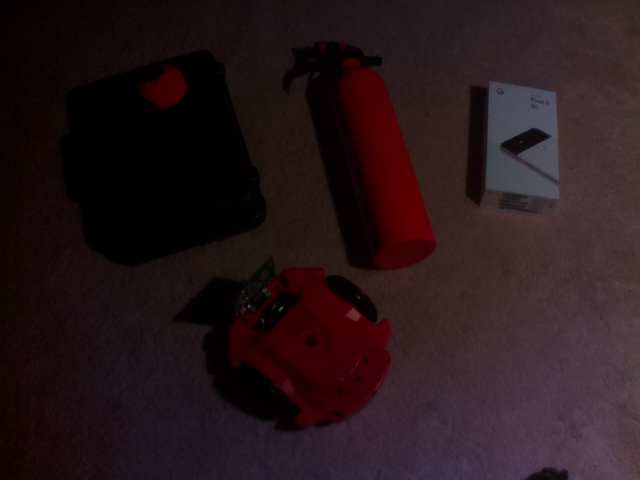chassis: (226, 256, 394, 427)
